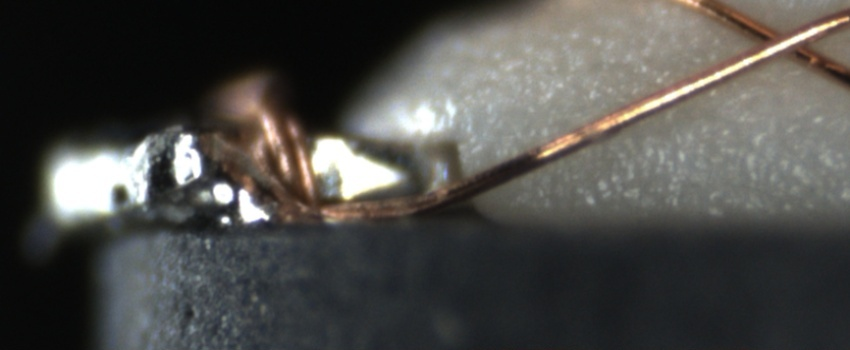CL: (732, 13, 829, 69)
TE: (226, 68, 338, 226)
